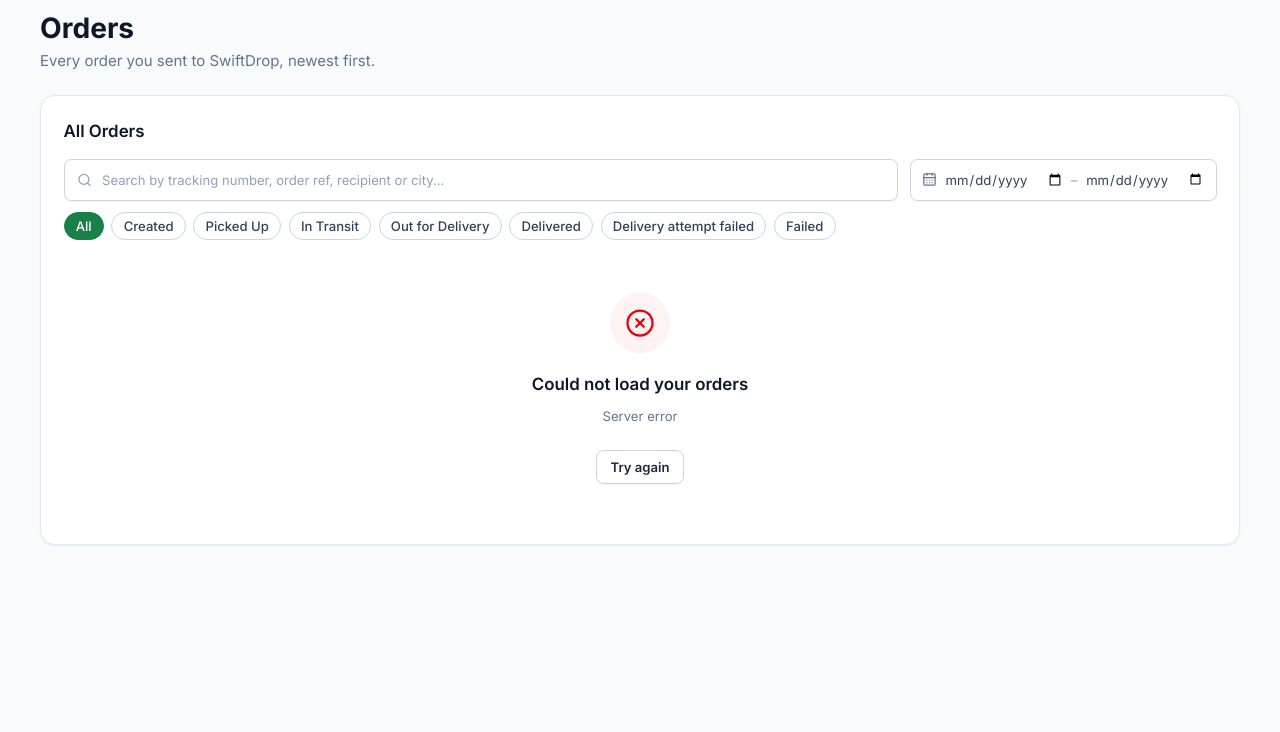
Test: lets the merchant retry when the orders fail to load
Click the button "Try again" at (640, 467), box [596,450,684,484]
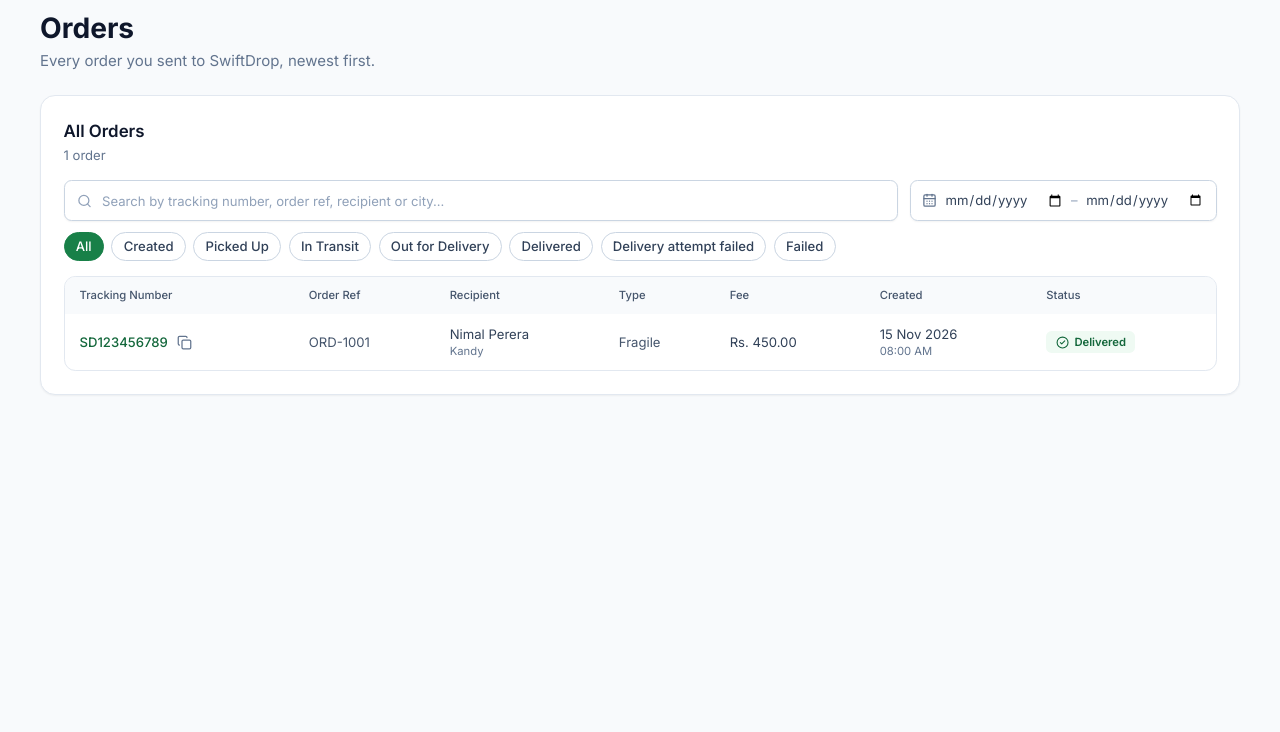
Expected: the link "SD123456789" is shown, [80,333,168,352]
